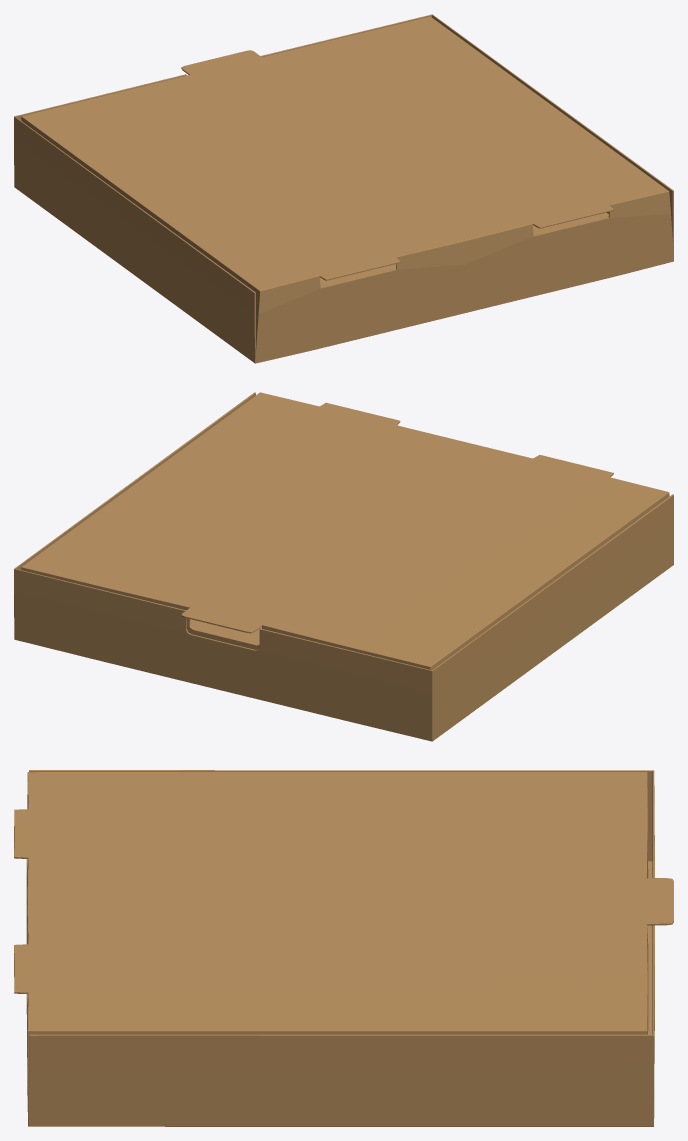
File: pizza.fbx
The picture shows the model from 3 angles, top to bottom: view 1: azimuth 30°, elevation 25°; view 2: azimuth 150°, elevation 25°; view 3: azimuth 270°, elevation 25°; orthographic projection. The views are drawn at different scales.
Parts seen in each view (by area): view 1: Cube; view 2: Cube; view 3: Cube.
Boxes of the visible parts, left/top/right/bottom form: Cube: left=14, top=14, right=673, bottom=363; Cube: left=14, top=392, right=673, bottom=741; Cube: left=14, top=770, right=673, bottom=1126.
Bounding box in the file's own units: 282 × 46.71 × 296.
